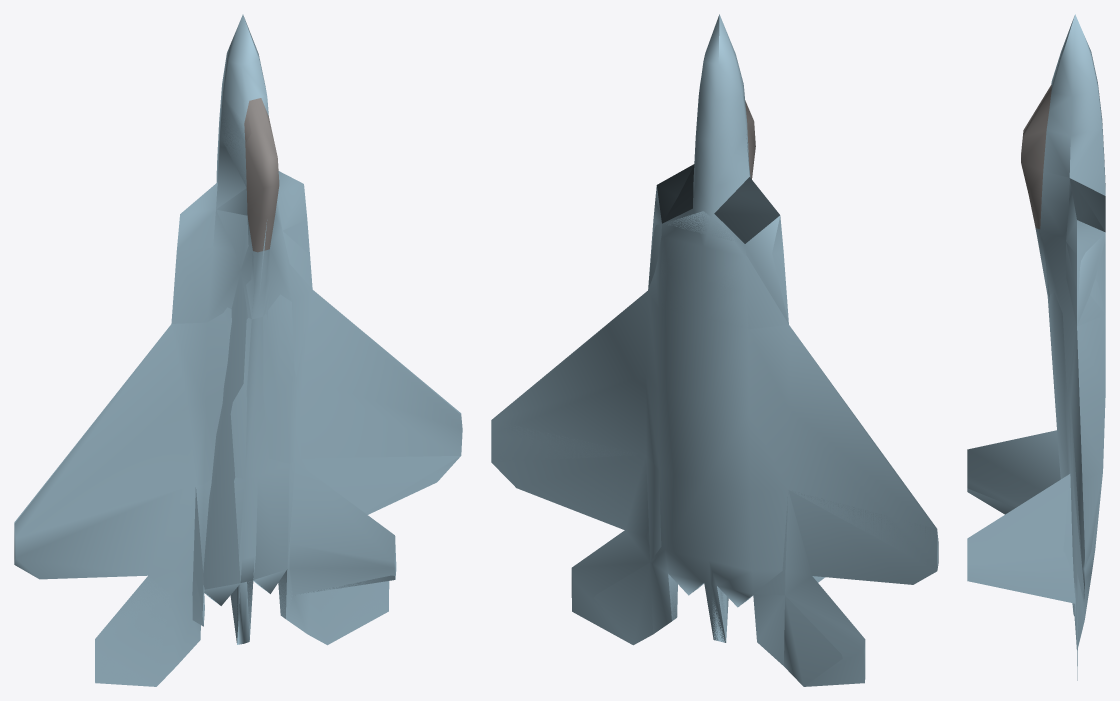
The picture shows the model from 3 angles, left to right: view 1: azimuth 30°, elevation 25°; view 2: azimuth 150°, elevation 25°; view 3: azimuth 270°, elevation 25°; orthographic projection. The views are drawn at different scales.
Visible parts, largest first — view 1: db_f22_newLOD_LOD child0_wing1_p13685_Geometry_0.001, db_f22_newLOD_LOD child0_body1_pl149_Geometry_0.001, db_f22_newLOD_LOD child0_body2_p13896_Geometry_0.001, db_f22_newLOD_LOD child0_hstab1_p13709_Geometry_0.001, db_f22_newLOD_LOD child0_vstab1_p13743_Geometry_0.001, db_f22_newLOD_LOD child0_body3_p14031_Geometry_0.001, db_f22_newLOD_LOD child0_hstab2_p14244_Geometry_0.001, db_f22_newLOD_LOD child0_wing3_p14054_Geometry_0.001, db_f22_newLOD_LOD child0_cpit1_p14205_Geometry_0.001, db_f22_newLOD_LOD child0_levor1_pl151_Geometry_0.001; view 2: db_f22_newLOD_LOD child0_body1_pl149_Geometry_0.001, db_f22_newLOD_LOD child0_wing1_p13685_Geometry_0.001, db_f22_newLOD_LOD child0_wing2_p13930_Geometry_0.001, db_f22_newLOD_LOD child0_hstab1_p13709_Geometry_0.001, db_f22_newLOD_LOD child0_body2_p13896_Geometry_0.001, db_f22_newLOD_LOD child0_hstab2_p14244_Geometry_0.001, db_f22_newLOD_LOD child0_body3_p14031_Geometry_0.001, db_f22_newLOD_LOD child0_wing3_p14054_Geometry_0.001, db_f22_newLOD_LOD child0_intake2_p14250_Geometry_0.001, db_f22_newLOD_LOD child0_intake3_p14018_Geometry_0.001, db_f22_newLOD_LOD child0_levor1_pl151_Geometry_0.001; view 3: db_f22_newLOD_LOD child0_body1_pl149_Geometry_0.001, db_f22_newLOD_LOD child0_vstab1_p13743_Geometry_0.001, db_f22_newLOD_LOD child0_body2_p13896_Geometry_0.001, db_f22_newLOD_LOD child0_cpit1_p14205_Geometry_0.001, db_f22_newLOD_LOD child0_wing1_p13685_Geometry_0.001, db_f22_newLOD_LOD child0_body3_p14031_Geometry_0.001, db_f22_newLOD_LOD child0_vstab2_p13964_Geometry_0.001, db_f22_newLOD_LOD child0_intake2_p14250_Geometry_0.001, db_f22_newLOD_LOD child0_intake3_p14018_Geometry_0.001, db_f22_newLOD_LOD child0_wing3_p14054_Geometry_0.001.
Boxes of the visible parts, <box> form: db_f22_newLOD_LOD child0_wing1_p13685_Geometry_0.001: <box>14,290,462,579</box>; db_f22_newLOD_LOD child0_body1_pl149_Geometry_0.001: <box>170,14,312,665</box>; db_f22_newLOD_LOD child0_body2_p13896_Geometry_0.001: <box>171,188,312,663</box>; db_f22_newLOD_LOD child0_hstab1_p13709_Geometry_0.001: <box>95,571,389,686</box>; db_f22_newLOD_LOD child0_vstab1_p13743_Geometry_0.001: <box>192,461,396,626</box>; db_f22_newLOD_LOD child0_body3_p14031_Geometry_0.001: <box>203,97,292,640</box>; db_f22_newLOD_LOD child0_hstab2_p14244_Geometry_0.001: <box>95,576,389,686</box>; db_f22_newLOD_LOD child0_wing3_p14054_Geometry_0.001: <box>14,297,461,523</box>; db_f22_newLOD_LOD child0_cpit1_p14205_Geometry_0.001: <box>244,98,279,252</box>; db_f22_newLOD_LOD child0_levor1_pl151_Geometry_0.001: <box>204,569,286,605</box>; db_f22_newLOD_LOD child0_body1_pl149_Geometry_0.001: <box>646,14,788,665</box>; db_f22_newLOD_LOD child0_wing1_p13685_Geometry_0.001: <box>491,291,938,575</box>; db_f22_newLOD_LOD child0_wing2_p13930_Geometry_0.001: <box>491,421,936,584</box>; db_f22_newLOD_LOD child0_hstab1_p13709_Geometry_0.001: <box>571,530,865,686</box>; db_f22_newLOD_LOD child0_body2_p13896_Geometry_0.001: <box>646,220,788,642</box>; db_f22_newLOD_LOD child0_hstab2_p14244_Geometry_0.001: <box>594,562,842,686</box>; db_f22_newLOD_LOD child0_body3_p14031_Geometry_0.001: <box>648,103,788,637</box>; db_f22_newLOD_LOD child0_wing3_p14054_Geometry_0.001: <box>491,297,937,545</box>; db_f22_newLOD_LOD child0_intake2_p14250_Geometry_0.001: <box>662,165,779,243</box>; db_f22_newLOD_LOD child0_intake3_p14018_Geometry_0.001: <box>656,164,694,223</box>; db_f22_newLOD_LOD child0_levor1_pl151_Geometry_0.001: <box>668,573,752,607</box>; db_f22_newLOD_LOD child0_body1_pl149_Geometry_0.001: <box>1040,14,1105,648</box>; db_f22_newLOD_LOD child0_vstab1_p13743_Geometry_0.001: <box>967,430,1075,603</box>; db_f22_newLOD_LOD child0_body2_p13896_Geometry_0.001: <box>1035,171,1105,643</box>; db_f22_newLOD_LOD child0_cpit1_p14205_Geometry_0.001: <box>1021,84,1051,228</box>; db_f22_newLOD_LOD child0_wing1_p13685_Geometry_0.001: <box>1070,329,1084,601</box>; db_f22_newLOD_LOD child0_body3_p14031_Geometry_0.001: <box>1043,93,1105,610</box>; db_f22_newLOD_LOD child0_vstab2_p13964_Geometry_0.001: <box>967,476,1073,575</box>; db_f22_newLOD_LOD child0_intake2_p14250_Geometry_0.001: <box>1070,178,1105,231</box>; db_f22_newLOD_LOD child0_intake3_p14018_Geometry_0.001: <box>1069,178,1104,231</box>; db_f22_newLOD_LOD child0_wing3_p14054_Geometry_0.001: <box>1072,387,1084,593</box>.
Size of the model in its own units: 13.42 by 18.73 by 3.77.
